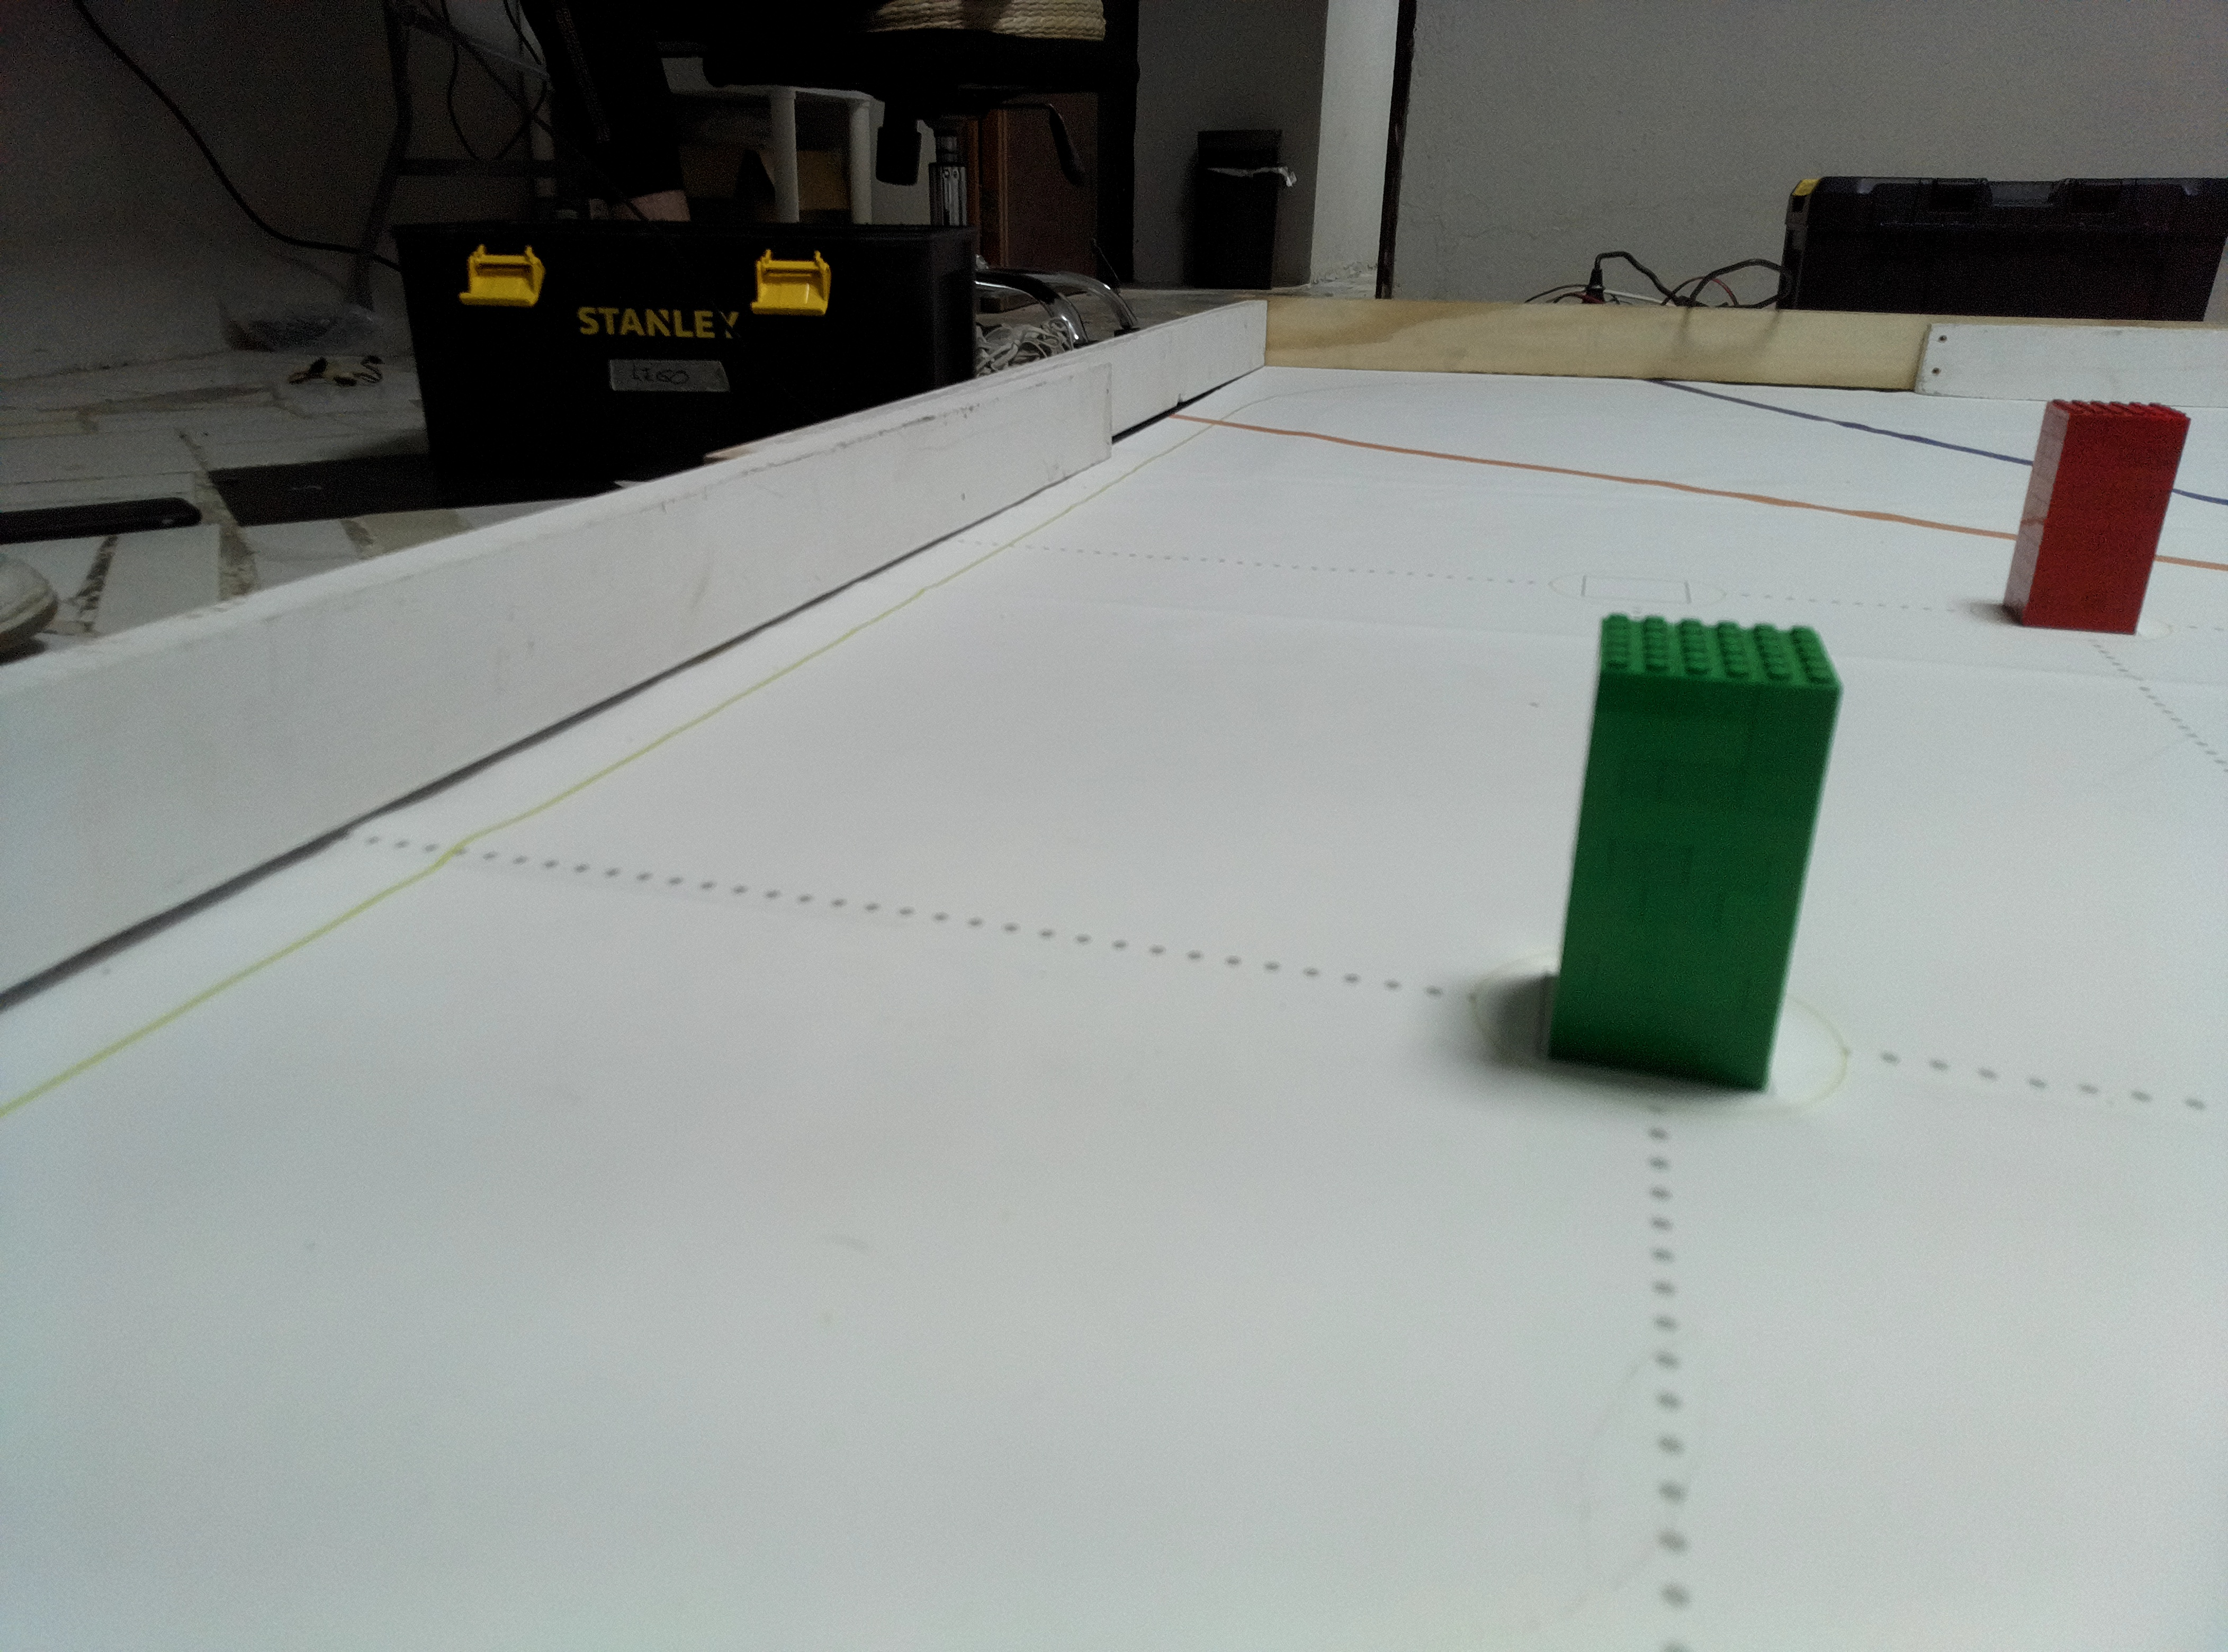greenbox: (1544, 607, 1845, 1100)
redbox: (2001, 399, 2197, 640)
